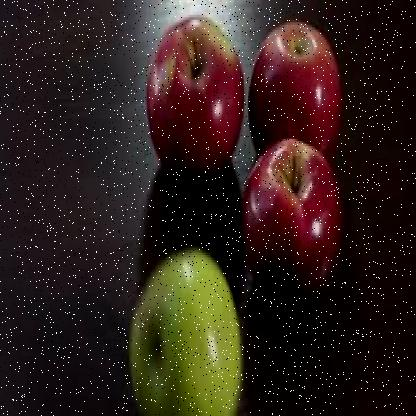apple: (130, 248, 240, 414), (146, 17, 250, 181), (245, 141, 342, 307), (251, 15, 345, 171)
